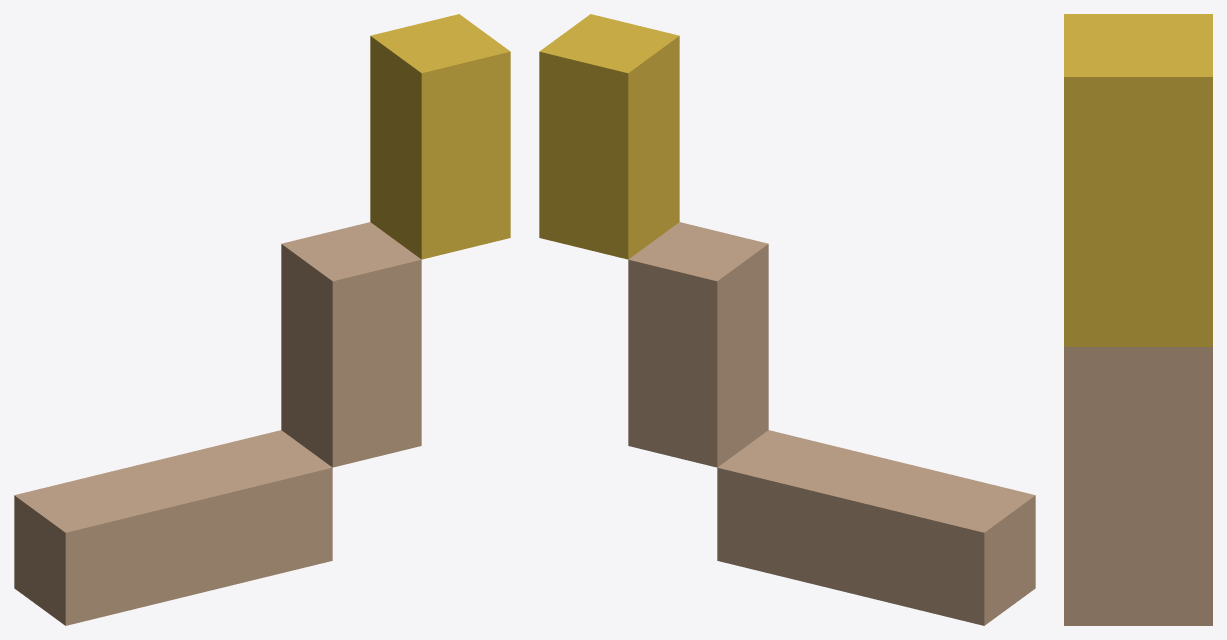
File: orc-23-left_hand_attack.obj
3 views of the same model, side by side, from view 1: azimuth 30°, elevation 25°; view 2: azimuth 150°, elevation 25°; view 3: azimuth 270°, elevation 25° (orthographic). The views are drawn at different scales.
Visible parts, largest first — view 1: left_hand_attack; view 2: left_hand_attack; view 3: left_hand_attack.
Part boxes in pixels (<box>): left_hand_attack: <box>14,14,510,625</box>; left_hand_attack: <box>539,14,1035,625</box>; left_hand_attack: <box>1064,14,1212,625</box>.
Bounding box in the file's own units: 0.5 × 0.5 × 0.1.
Materials: 1 (1 with a texture image).
